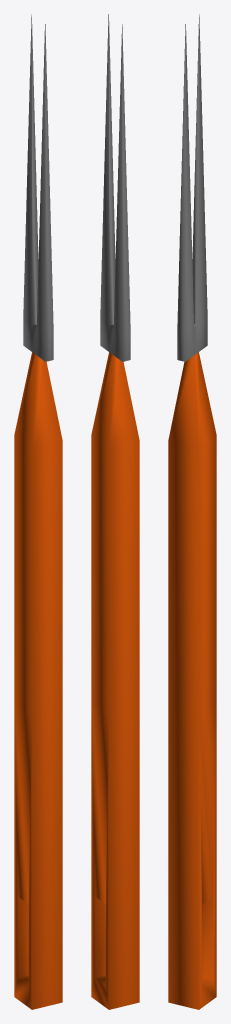
Rendered from Vork.gltf.
The picture shows the model from 3 angles, left to right: view 1: azimuth 30°, elevation 25°; view 2: azimuth 210°, elevation 25°; view 3: azimuth 330°, elevation 25°; orthographic projection.
Parts seen in each view (by area): view 1: Cube.002, Cube; view 2: Cube.002, Cube; view 3: Cube.002, Cube.
Part boxes in pixels (<box>): Cube.002: <box>14,352,62,1009</box>; Cube: <box>23,14,53,361</box>; Cube.002: <box>91,352,139,1009</box>; Cube: <box>100,14,130,361</box>; Cube.002: <box>168,352,216,1009</box>; Cube: <box>177,14,207,361</box>.
Size of the model in its own units: 0.105 by 3.21 by 0.1328.
